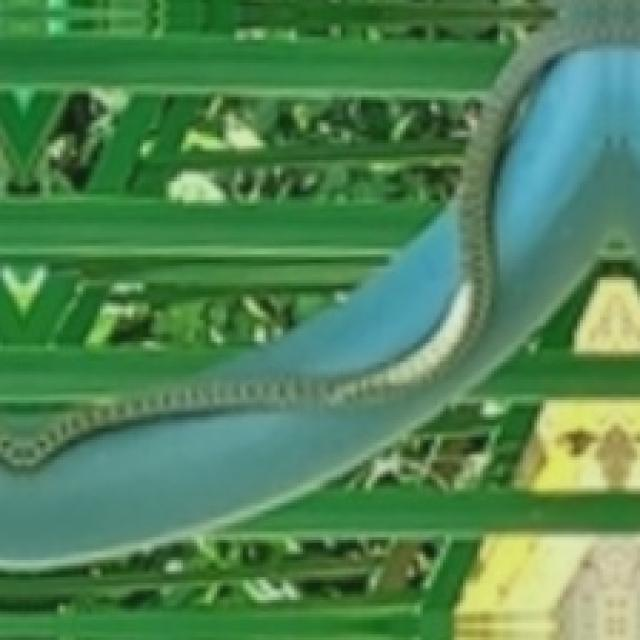paradise tree snake: (0, 0, 637, 566), (0, 37, 494, 191)
